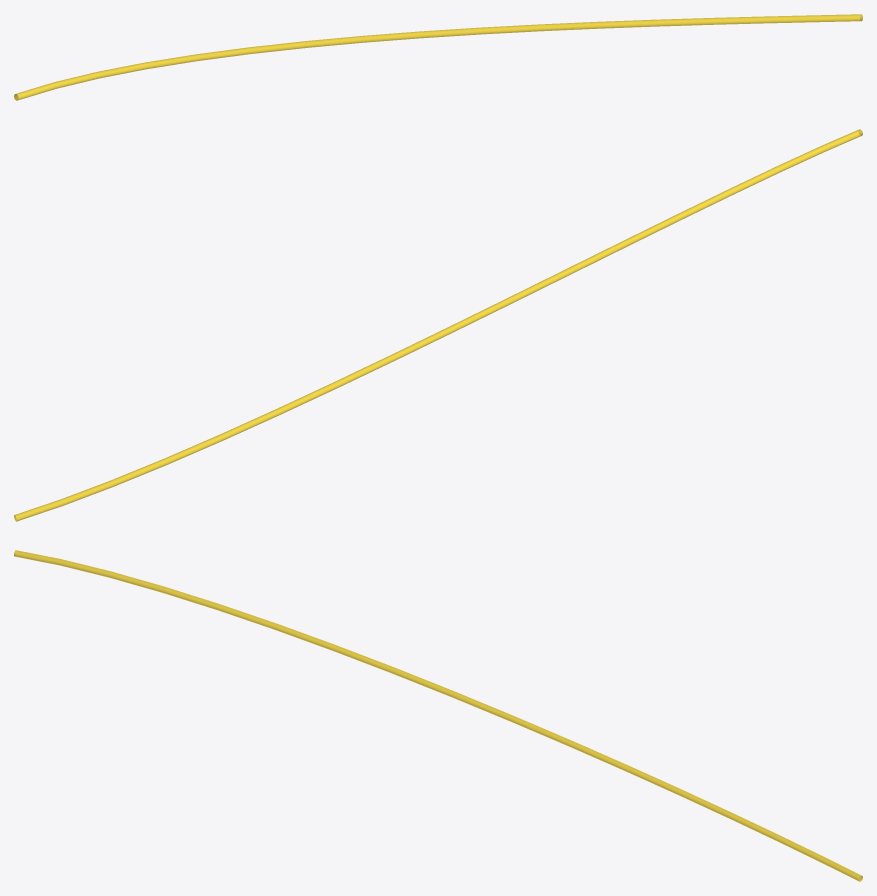
The model's file is Event_84804159_track_82.fbx.
The picture shows the model from 3 angles, top to bottom: view 1: azimuth 30°, elevation 25°; view 2: azimuth 210°, elevation 25°; view 3: azimuth 330°, elevation 25°; orthographic projection. The views are drawn at different scales.
Parts seen in each view (by area): view 1: Model; view 2: Model; view 3: Model.
Part boxes in pixels (box(x1,y1,x2,y2)): Model: box(14, 14, 862, 100); Model: box(14, 129, 862, 521); Model: box(14, 550, 862, 881).
Size of the model in its own units: 5.75 by 1 by 0.433.
